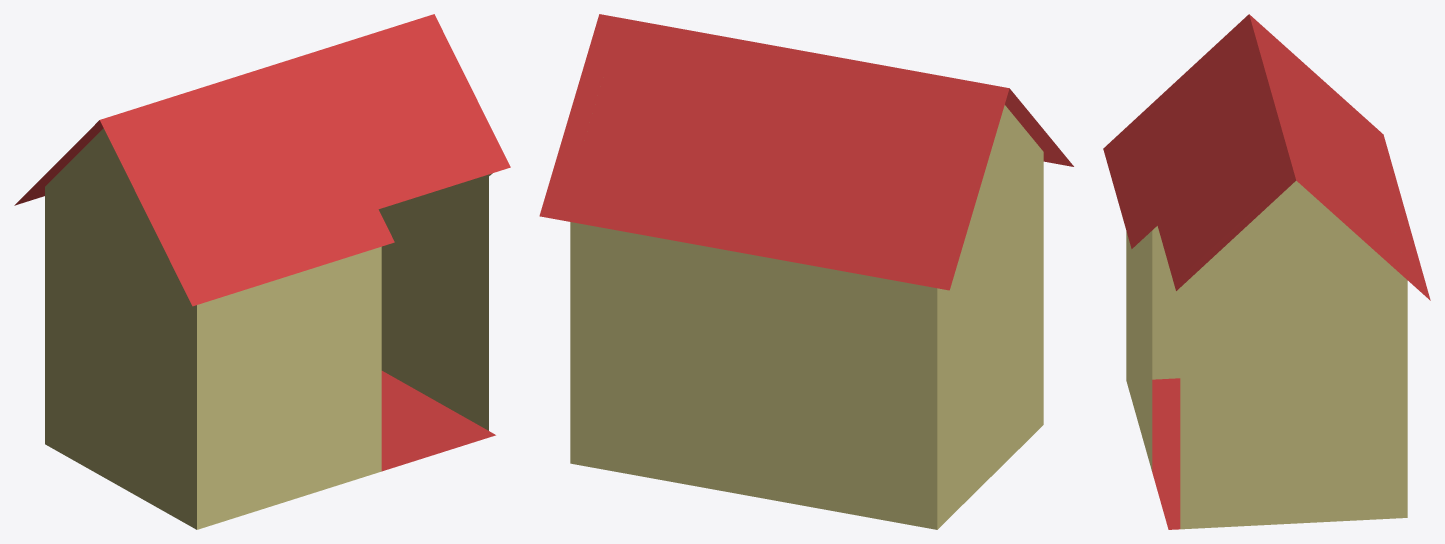
3 views of the same model, side by side, from view 1: azimuth 30°, elevation 25°; view 2: azimuth 150°, elevation 25°; view 3: azimuth 270°, elevation 25° (orthographic). The views are drawn at different scales.
Size of the model in its own units: 10.16 by 7.84 by 9.29.
